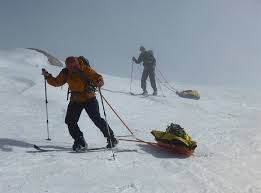skis: (32, 142, 138, 154)
